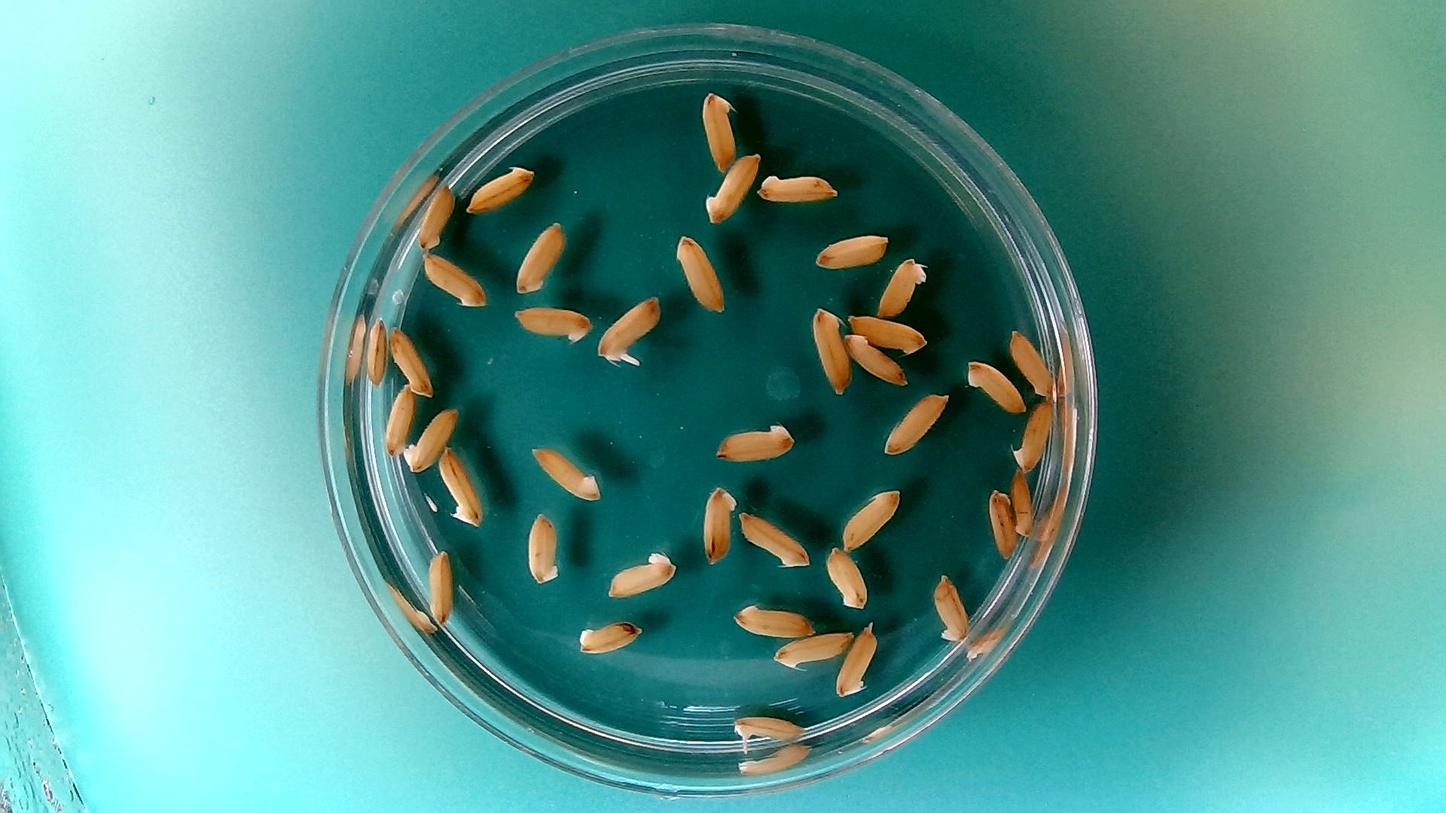no: (700, 148, 764, 227), (735, 507, 813, 570), (527, 440, 603, 504), (672, 231, 728, 315), (880, 389, 950, 455), (401, 401, 462, 475), (838, 483, 904, 551), (435, 443, 486, 529), (511, 218, 567, 296), (419, 249, 490, 309), (709, 417, 798, 464), (462, 160, 538, 215), (809, 303, 853, 397), (770, 626, 859, 671), (603, 548, 680, 600), (962, 356, 1029, 414), (841, 330, 909, 387), (386, 322, 436, 399), (833, 619, 880, 699), (1006, 325, 1055, 400), (511, 301, 594, 345), (1009, 396, 1056, 473), (810, 227, 891, 271), (846, 311, 928, 354), (699, 87, 740, 173), (729, 598, 817, 638), (698, 480, 738, 568), (875, 254, 930, 318), (752, 168, 843, 206), (929, 570, 972, 644), (523, 507, 563, 586), (824, 544, 869, 610), (415, 179, 456, 251), (983, 480, 1018, 564), (574, 615, 645, 655), (381, 380, 416, 461), (425, 545, 454, 629), (362, 314, 388, 389), (1009, 467, 1035, 539)
yes: (594, 291, 665, 369), (733, 714, 804, 751)
